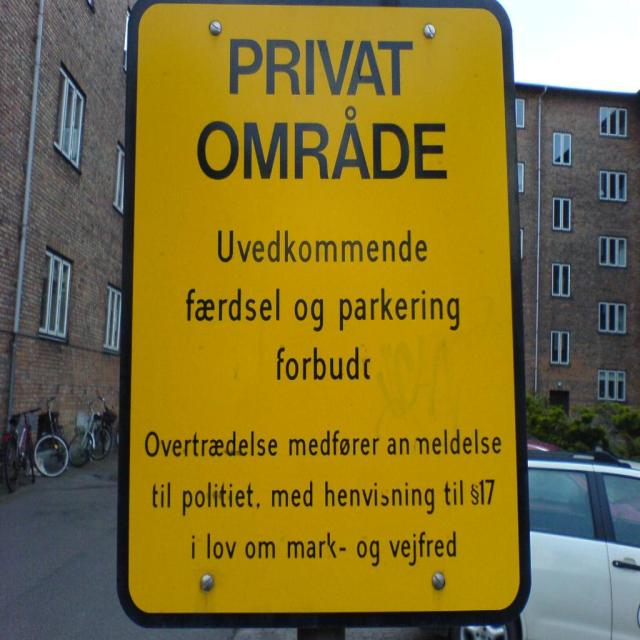car: (451, 448, 639, 639)
